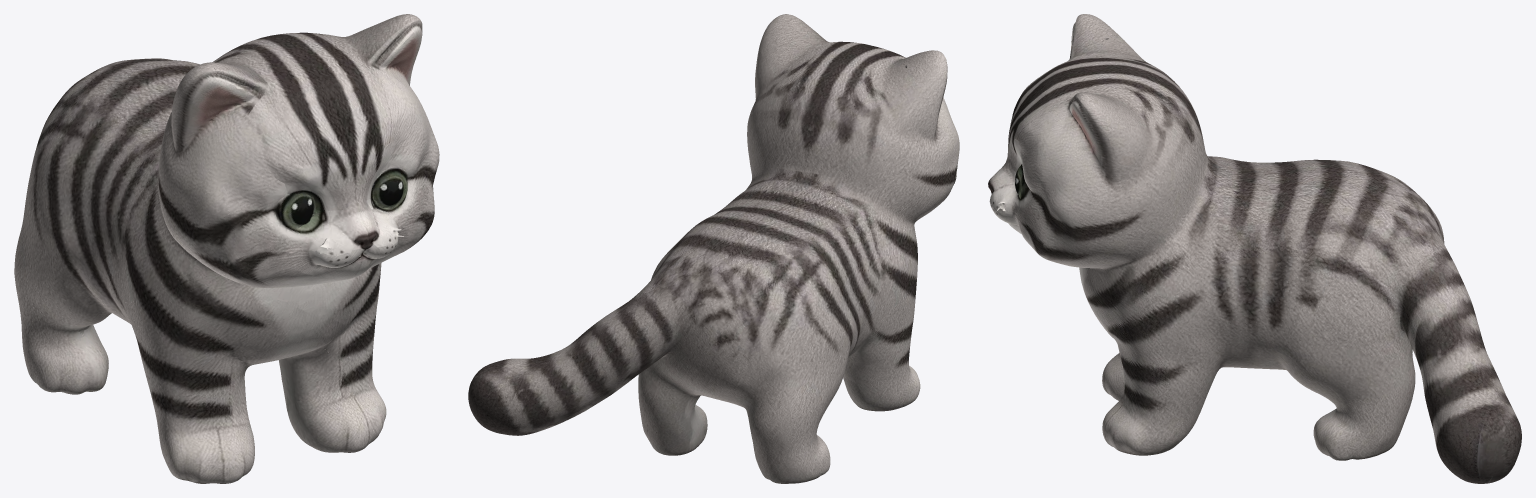
The model's file is meshy-silvertabby.glb.
3 views of the same model, side by side, from view 1: azimuth 30°, elevation 25°; view 2: azimuth 150°, elevation 25°; view 3: azimuth 270°, elevation 25° (orthographic). The views are drawn at different scales.
Parts seen in each view (by area): view 1: Mesh_0; view 2: Mesh_0; view 3: Mesh_0.
Part boxes in pixels (bbox=[...]): Mesh_0: bbox=[14, 14, 439, 483]; Mesh_0: bbox=[468, 14, 959, 483]; Mesh_0: bbox=[988, 14, 1521, 483].
Bounding box in the file's own units: 1.32 × 1.42 × 1.88.
1 material, 1 textured.
